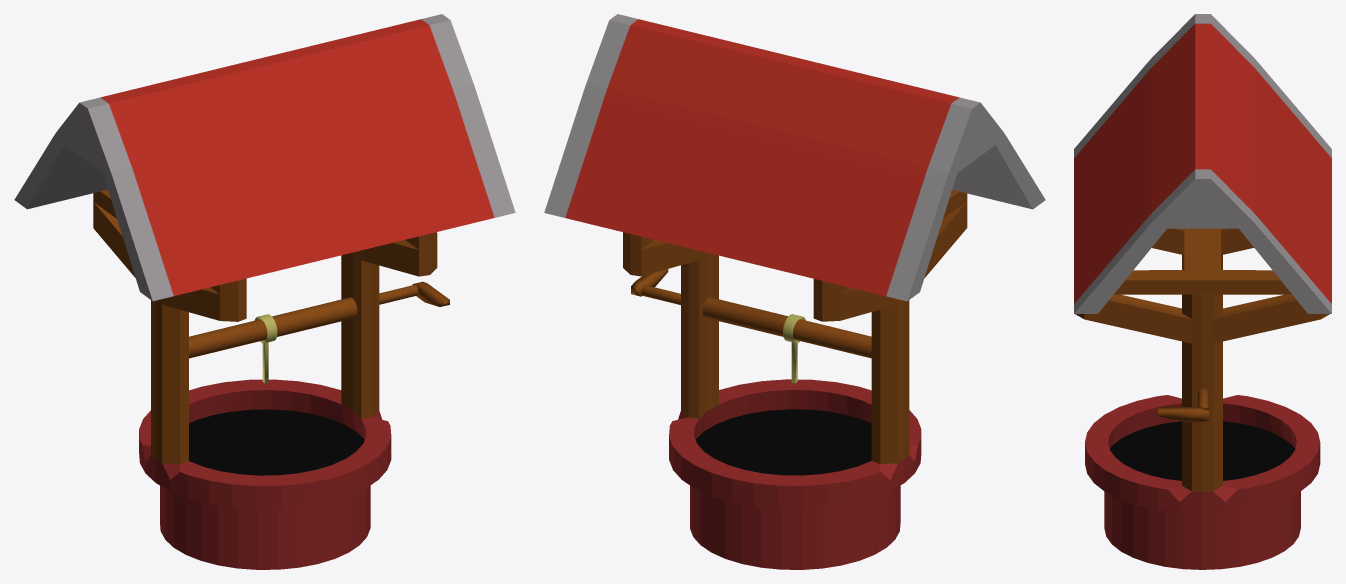
The model's file is Poco_4.5.fbx.
3 renders of one model, left to right at view 1: azimuth 30°, elevation 25°; view 2: azimuth 150°, elevation 25°; view 3: azimuth 270°, elevation 25°, orthographic. The views are drawn at different scales.
Parts seen in each view (by area): view 1: Teto, Base, Vara; view 2: Teto, Base, Vara; view 3: Teto, Base, Cube.
Part boxes in pixels (bbox=[...]): Teto: bbox=[14, 14, 515, 301]; Base: bbox=[93, 189, 437, 569]; Vara: bbox=[189, 297, 357, 383]; Teto: bbox=[544, 14, 1045, 301]; Base: bbox=[623, 189, 967, 569]; Vara: bbox=[703, 297, 871, 383]; Teto: bbox=[1074, 14, 1331, 313]; Base: bbox=[1075, 228, 1329, 569]; Cube: bbox=[1158, 407, 1208, 422].
Bounding box in the file's own units: 763 × 932 × 504.
